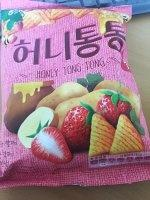snack: (0, 0, 150, 190)
